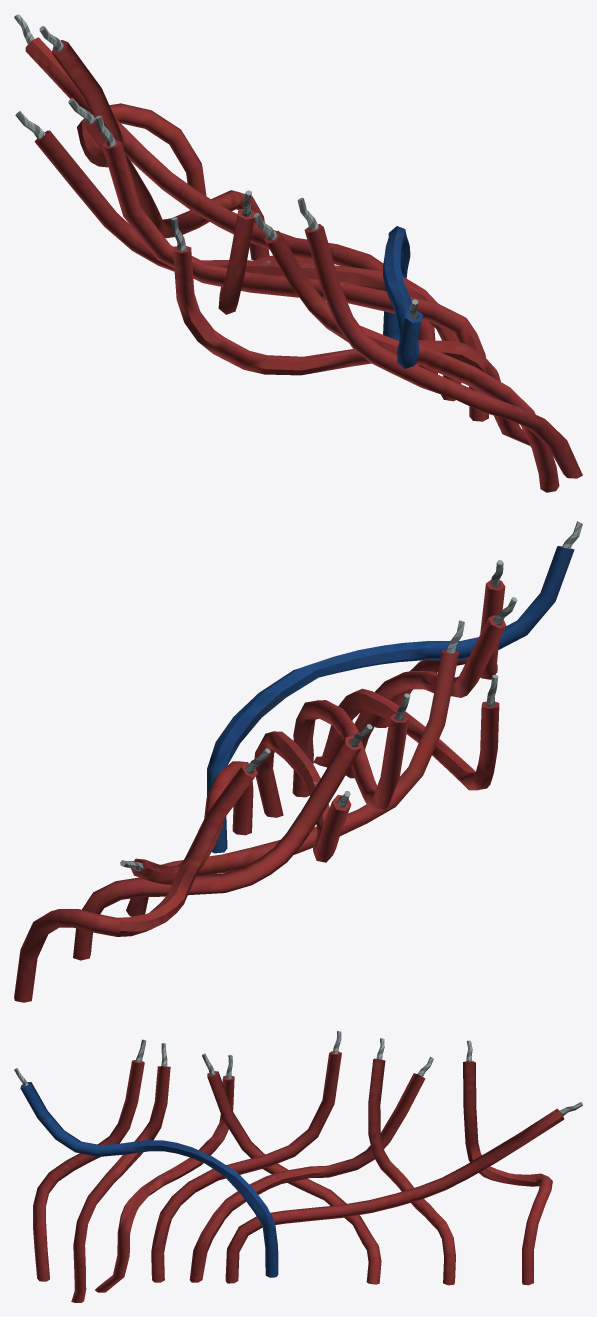
Rendered from provod.fbx.
The picture shows the model from 3 angles, top to bottom: view 1: azimuth 30°, elevation 25°; view 2: azimuth 150°, elevation 25°; view 3: azimuth 270°, elevation 25°; orthographic projection. The views are drawn at different scales.
Visible parts, largest first — view 1: Obj_TT_tube.051, Obj_TT_tube.054, Obj_TT_tube.052, Obj_TT_tube.087, Obj_TT_tube.053, Obj_TT_tube.050, Obj_TT_tube.056, Obj_TT_tube.055, Obj_TT_tube.057, provod, Obj_TT_tube.058; view 2: Obj_TT_tube.055, Obj_TT_tube.056, Obj_TT_tube.057, Obj_TT_tube.058, Obj_TT_tube.051, Obj_TT_tube.052, Obj_TT_tube.050, Obj_TT_tube.053, Obj_TT_tube.087, provod, Obj_TT_tube.054; view 3: Obj_TT_tube.087, Obj_TT_tube.055, Obj_TT_tube.051, Obj_TT_tube.050, Obj_TT_tube.056, Obj_TT_tube.054, Obj_TT_tube.053, Obj_TT_tube.057, Obj_TT_tube.058, Obj_TT_tube.052, provod.
Boxes of the visible parts, <box> form: Obj_TT_tube.051: <box>102,139,488,421</box>; Obj_TT_tube.054: <box>304,224,582,478</box>; Obj_TT_tube.052: <box>173,246,530,445</box>; Obj_TT_tube.087: <box>25,37,437,374</box>; Obj_TT_tube.053: <box>264,230,559,492</box>; Obj_TT_tube.050: <box>34,130,461,401</box>; Obj_TT_tube.056: <box>51,40,206,196</box>; Obj_TT_tube.055: <box>383,226,422,368</box>; Obj_TT_tube.057: <box>84,113,269,260</box>; provod: <box>14,14,418,319</box>; Obj_TT_tube.058: <box>218,209,325,314</box>; Obj_TT_tube.055: <box>207,546,574,853</box>; Obj_TT_tube.056: <box>14,762,257,1002</box>; Obj_TT_tube.057: <box>73,735,361,960</box>; Obj_TT_tube.058: <box>126,650,459,916</box>; Obj_TT_tube.051: <box>292,700,408,809</box>; Obj_TT_tube.052: <box>313,688,499,790</box>; Obj_TT_tube.050: <box>254,731,351,862</box>; Obj_TT_tube.053: <box>346,615,506,778</box>; Obj_TT_tube.087: <box>130,761,253,884</box>; provod: <box>120,521,582,871</box>; Obj_TT_tube.054: <box>375,580,505,727</box>; Obj_TT_tube.087: <box>225,1108,564,1283</box>; Obj_TT_tube.055: <box>20,1082,278,1277</box>; Obj_TT_tube.051: <box>151,1051,341,1282</box>; Obj_TT_tube.050: <box>189,1073,425,1282</box>; Obj_TT_tube.056: <box>463,1061,552,1285</box>; Obj_TT_tube.054: <box>33,1060,144,1281</box>; Obj_TT_tube.053: <box>71,1066,170,1302</box>; Obj_TT_tube.057: <box>368,1058,455,1285</box>; Obj_TT_tube.058: <box>207,1071,381,1284</box>; Obj_TT_tube.052: <box>95,1075,234,1292</box>; provod: <box>14,1031,582,1115</box>.
Size of the model in its own units: 8.31 by 8.36 by 21.66.
Materials: 2 (2 with a texture image).
